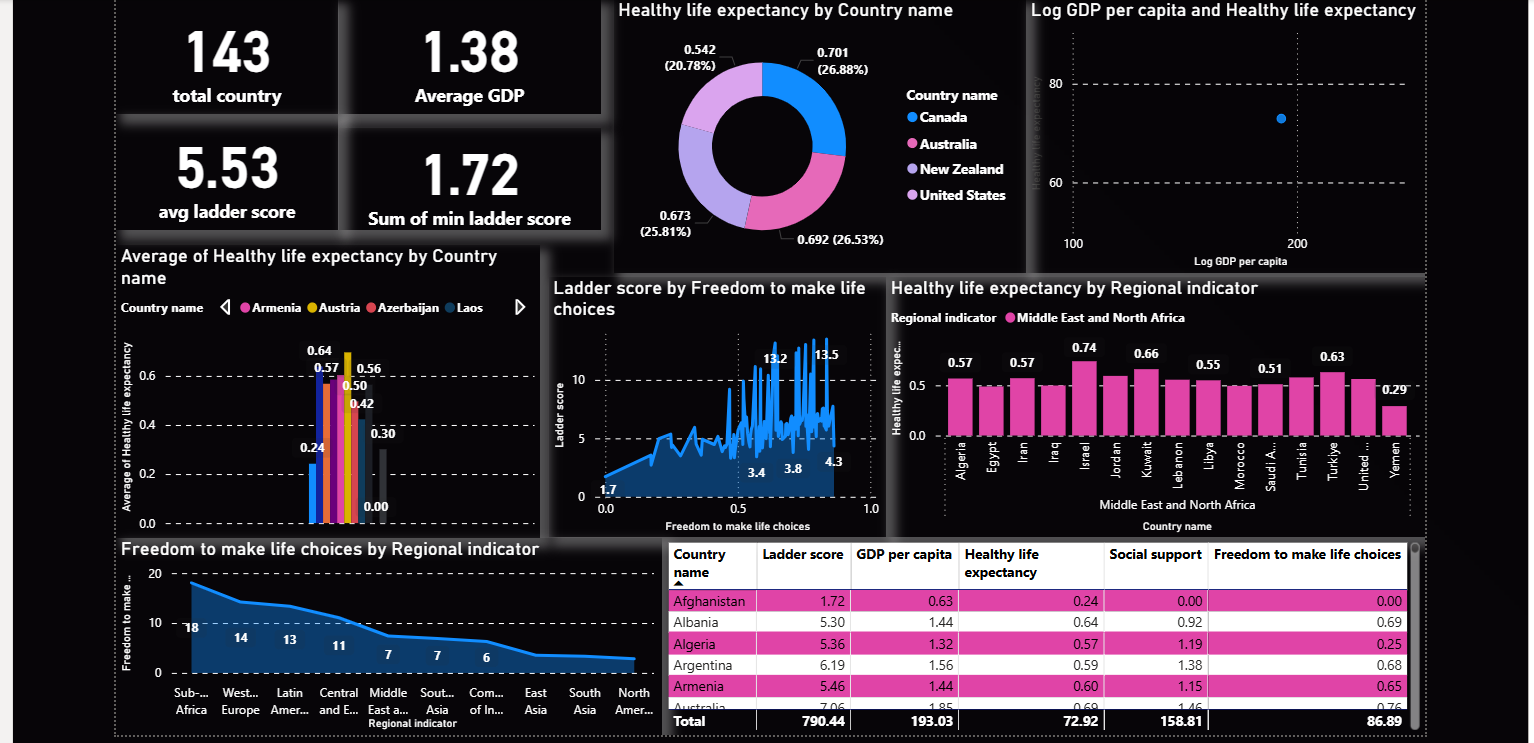

The page's visual inventory and layout, read from the dashboard file:
{"tool":"powerbi","page":{"name":"Page 1","canvas":[1280,720],"ordinal":0},"visuals":[{"type":"card","fields":{"Values":["country by midle eAast.total country"]},"box":[0,0,217.7,112.5],"z":0},{"type":"card","fields":{"Values":["country by midle eAast.avg ladder score"]},"box":[0,112.5,217.7,113.7],"z":1000},{"type":"card","fields":{"Values":["Sum(min ladder score.min ladder score)"]},"box":[217.7,126,256.8,100.3],"z":2000},{"type":"card","fields":{"Values":["country by midle eAast.avg gpd"]},"box":[217.7,0,256.8,112.5],"z":3000},{"type":"clusteredColumnChart","fields":{"Series":["world happines report.Country name"],"Y":["Avg(world happines report.Healthy life expectancy)"]},"box":[0,240.9,414.5,286.1],"z":4000},{"type":"scatterChart","fields":{"X":["Sum(world happines report.Log GDP per capita)"],"Y":["Sum(world happines report.Healthy life expectancy)"]},"box":[890.2,0,390.1,267.8],"z":5000},{"type":"columnChart","title":"Healthy life expectancy by Regional indicator","fields":{"Y":["Sum(world happines report.Healthy life expectancy)"],"Category":["world happines report.Regional indicator","world happines report.Country name"],"Series":["world happines report.Regional indicator"]},"box":[753.3,271.5,527,255.6],"z":6000},{"type":"stackedAreaChart","fields":{"Category":["world happines report.Regional indicator"],"Y":["Sum(world happines report.Freedom to make life choices)"]},"box":[0,527,534.4,193.2],"z":7000},{"type":"tableEx","fields":{"Values":["world happines report.Country name","Sum(world happines report.Ladder score)","Sum(world happines report.Log GDP per capita)","Sum(world happines report.Healthy life expectancy)","Sum(world happines report.Social support)","Sum(world happines report.Freedom to make life choices)"]},"box":[534.4,527,745.9,193.2],"z":8000},{"type":"donutChart","title":" Healthy life expectancy by Country name","fields":{"Category":["world happines report.Country name","world happines report.Regional indicator"],"Y":["Avg(world happines report.Healthy life expectancy)"]},"box":[486.7,0,403.5,267.8],"z":9000},{"type":"lineChart","fields":{"Y":["Sum(world happines report.Ladder score)"],"Category":["world happines report.Freedom to make life choices"]},"box":[423.1,271.5,330.2,255.6],"z":10000}]}

Visuals, with their boxes on the page's 1280x720 design canvas (x1, y1, x2, y2). These are canvas units, not pixel positions in the 1534x743 screenshot, which may show the page scaled, cropped or inside an application window:
card - country by midle eAast.total country: Rect(0, 0, 218, 112)
card - country by midle eAast.avg ladder score: Rect(0, 112, 218, 226)
card - Sum(min ladder score.min ladder score): Rect(218, 126, 474, 226)
card - country by midle eAast.avg gpd: Rect(218, 0, 474, 112)
clusteredColumnChart - world happines report.Country name x Avg(world happines report.Healthy life expectancy): Rect(0, 241, 414, 527)
scatterChart - Sum(world happines report.Log GDP per capita) x Sum(world happines report.Healthy life expectancy): Rect(890, 0, 1280, 268)
"Healthy life expectancy by Regional indicator" columnChart: Rect(753, 272, 1280, 527)
stackedAreaChart - world happines report.Regional indicator x Sum(world happines report.Freedom to make life choices): Rect(0, 527, 534, 720)
tableEx - world happines report.Country name x Sum(world happines report.Ladder score): Rect(534, 527, 1280, 720)
" Healthy life expectancy by Country name" donutChart: Rect(487, 0, 890, 268)
lineChart - Sum(world happines report.Ladder score) x world happines report.Freedom to make life choices: Rect(423, 272, 753, 527)
